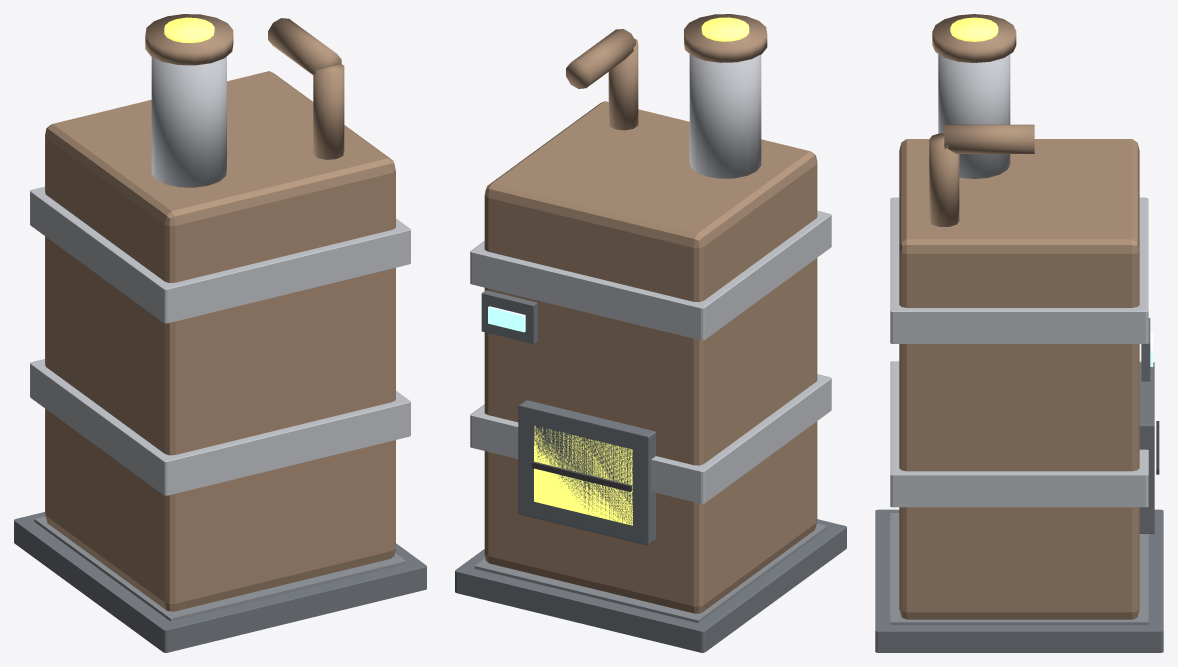
File: furnace.glb
3 views of the same model, side by side, from view 1: azimuth 30°, elevation 25°; view 2: azimuth 150°, elevation 25°; view 3: azimuth 270°, elevation 25° (orthographic). The views are drawn at different scales.
Parts seen in each view (by area): view 1: body, body_band, body_band2, base, stack, base_grate, pipe, stack_top, pipe2, stack_glow; view 2: body, body_band2, mouth_frame, base, body_band, stack, mouth_glow, base_grate, stack_top, pipe2, pipe, panel (+3 smaller); view 3: body, base, body_band2, body_band, stack, base_grate, pipe2, stack_top, pipe, mouth_frame, stack_glow, panel.
Boxes of the visible parts, x1,y1,x2,y2 form: body: (45,71,395,611); body_band: (30,359,410,495); body_band2: (30,186,410,323); base: (14,512,426,652); stack: (151,56,226,187); base_grate: (34,516,406,621); pipe: (313,64,344,159); stack_top: (145,14,233,65); pipe2: (268,18,341,74); stack_glow: (164,17,214,43); body: (484,101,817,613); body_band2: (470,210,831,340); mouth_frame: (518,400,655,545); base: (455,519,846,652); body_band: (470,374,831,503); stack: (689,54,761,178); mouth_glow: (534,426,632,525); base_grate: (474,523,827,622); stack_top: (684,14,767,62); pipe2: (566,29,635,88); pipe: (608,38,638,130); panel: (481,290,537,343); body: (899,139,1139,619); base: (875,509,1163,652); body_band2: (890,197,1148,343); body_band: (890,361,1148,507); stack: (938,54,1010,178); base_grate: (890,513,1148,624); pipe2: (944,124,1034,153); stack_top: (932,14,1016,62); pipe: (929,133,959,226); mouth_frame: (1139,362,1154,533); stack_glow: (950,17,998,41); panel: (1141,318,1150,381).
Size of the model in its own units: 0.96 by 1.98 by 0.96.
